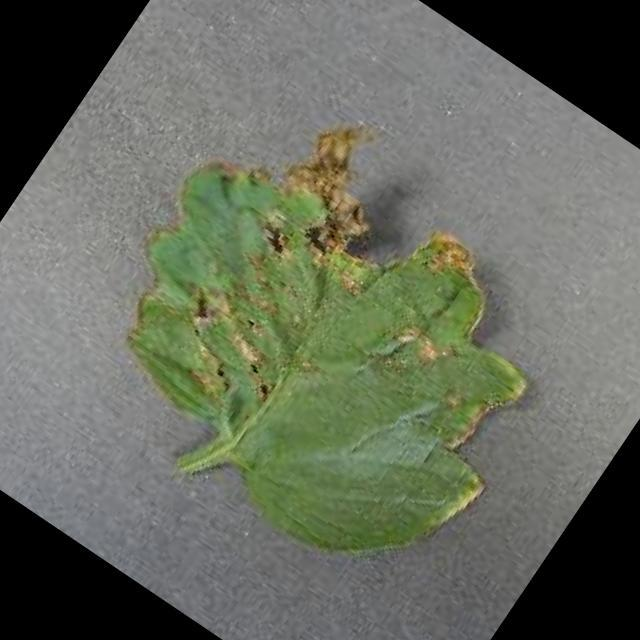Tomato bacterial spot leaf: (45, 48, 616, 609)
